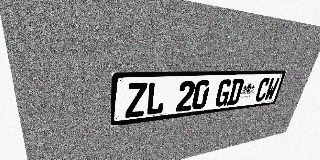0: (191, 80, 211, 110)
2: (176, 80, 196, 112)
C: (254, 78, 271, 102)
D: (226, 79, 245, 105)
G: (214, 79, 233, 107)
L: (145, 82, 167, 116)
W: (263, 77, 280, 101)
Z: (125, 82, 147, 118)
